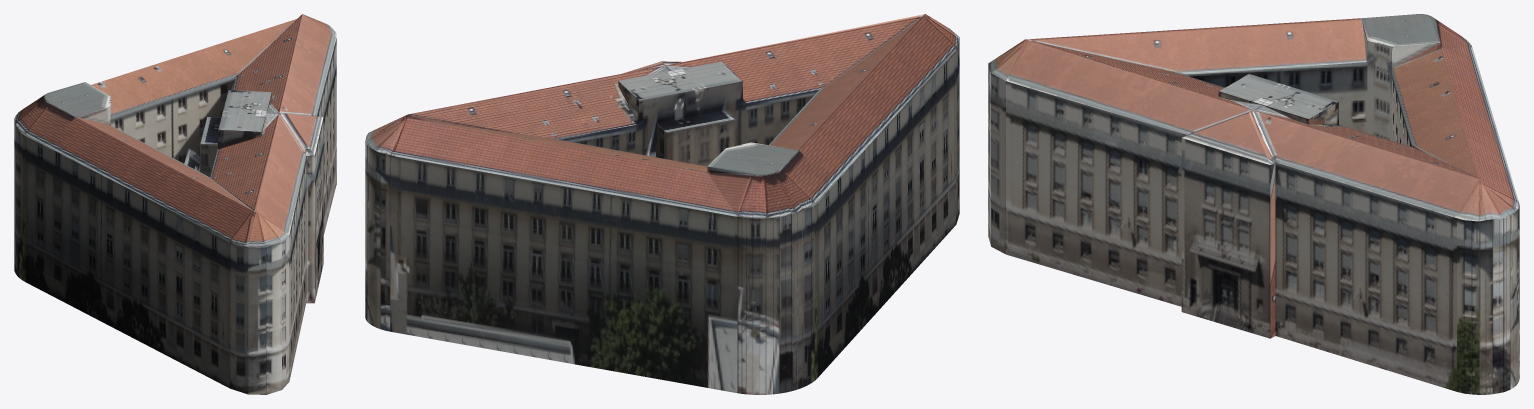
The picture shows the model from 3 angles, left to right: view 1: azimuth 30°, elevation 25°; view 2: azimuth 150°, elevation 25°; view 3: azimuth 270°, elevation 25°; orthographic projection. The views are drawn at different scales.
Parts seen in each view (by area): view 1: Z_UP; view 2: Z_UP; view 3: Z_UP.
Boxes of the visible parts, x1,y1,x2,y2 form: Z_UP: [14, 14, 336, 394]; Z_UP: [365, 14, 959, 394]; Z_UP: [988, 14, 1519, 394].
Size of the model in its own units: 50.2 by 24.1 by 57.57.
2 materials, 1 textured.
